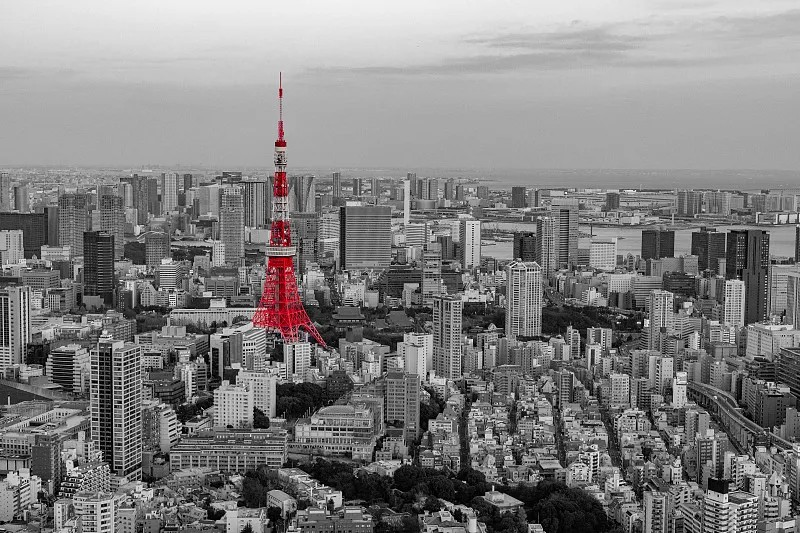Tokyo: (250, 68, 326, 349)
